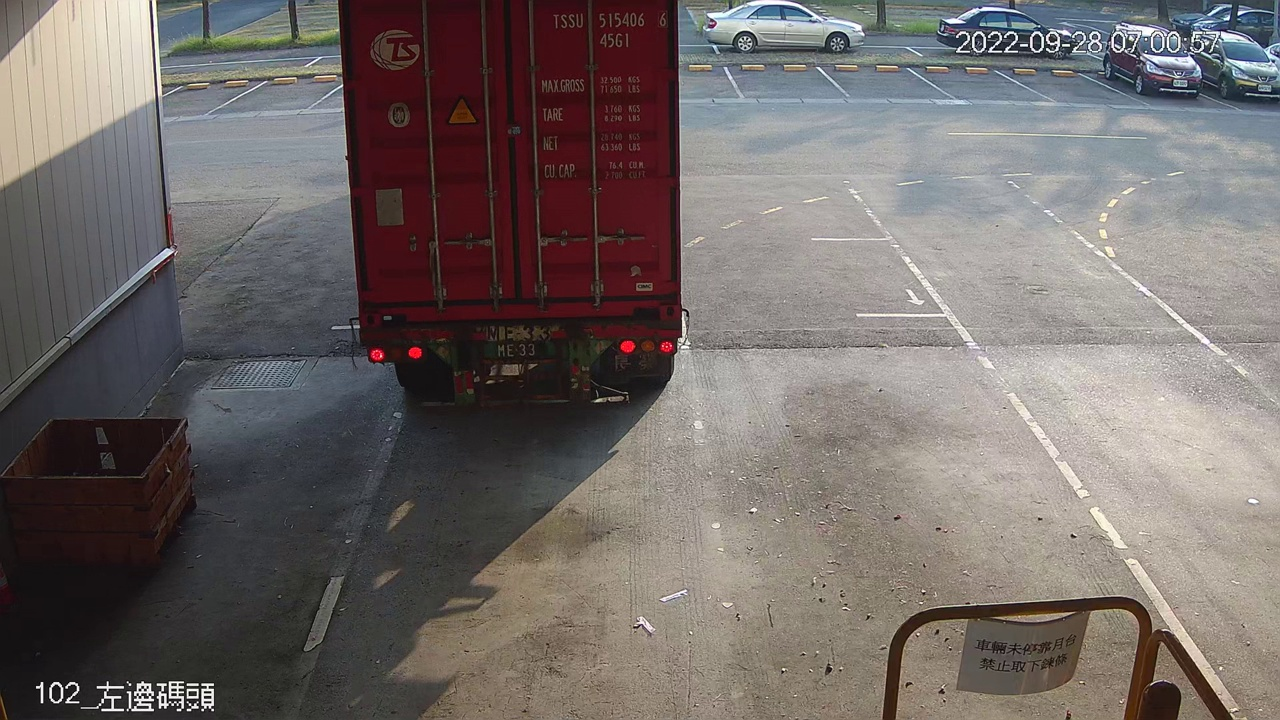container: (546, 5, 674, 55)
